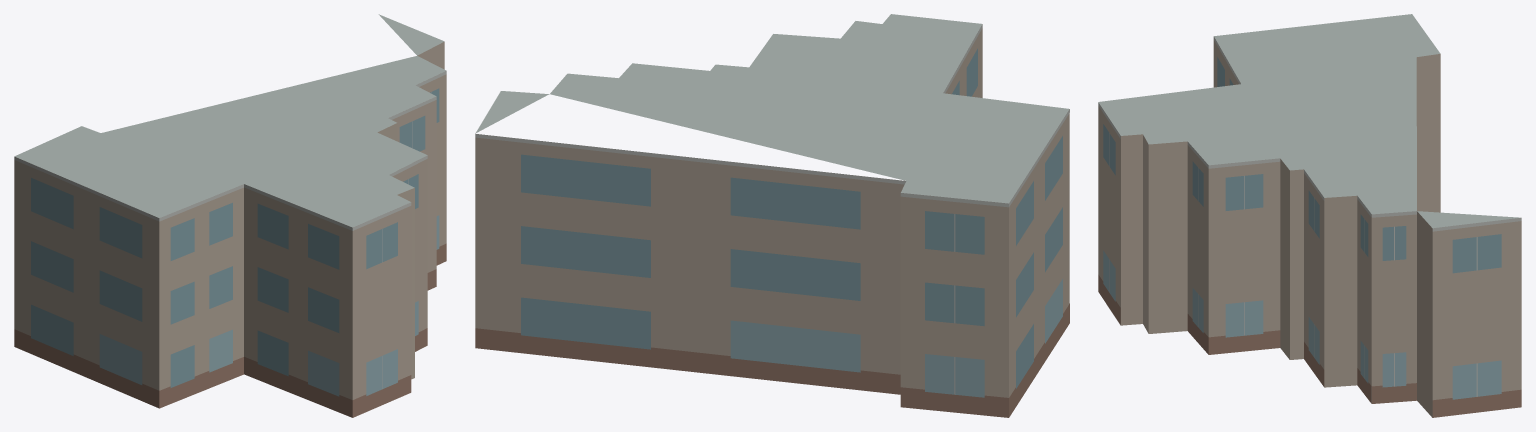
Rendered from survey-upis-32866826.glb.
The picture shows the model from 3 angles, left to right: view 1: azimuth 30°, elevation 25°; view 2: azimuth 150°, elevation 25°; view 3: azimuth 270°, elevation 25°; orthographic projection. The views are drawn at different scales.
Parts seen in each view (by area): view 1: survey-upis-32866826.tmp; view 2: survey-upis-32866826.tmp; view 3: survey-upis-32866826.tmp.
Part boxes in pixels (x1=…): survey-upis-32866826.tmp: x1=14, y1=14, x2=446, y2=417; survey-upis-32866826.tmp: x1=475, y1=14, x2=1069, y2=417; survey-upis-32866826.tmp: x1=1098, y1=14, x2=1521, y2=417.
Size of the model in its own units: 33.24 by 13.71 by 27.76.
